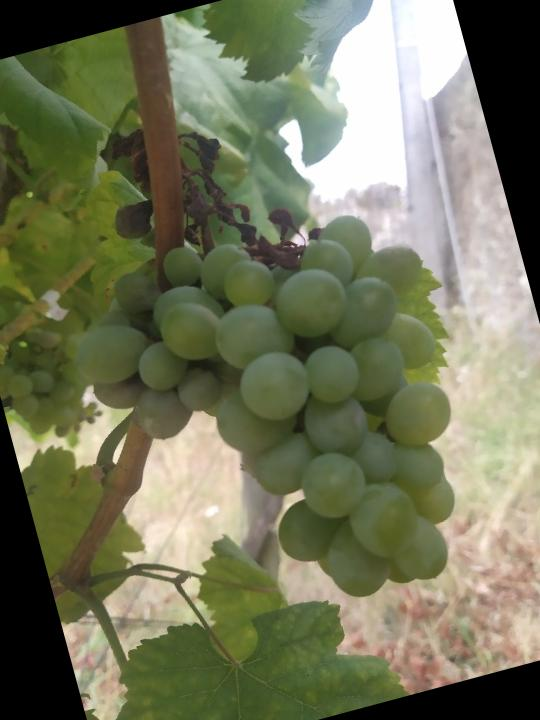grape: (17, 61, 506, 656)
